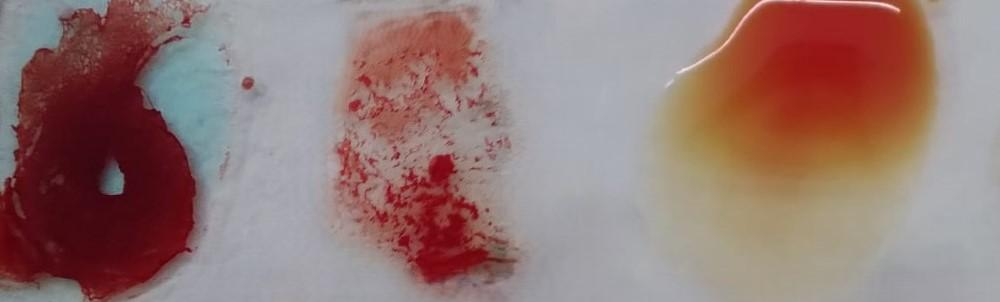A: (0, 6, 230, 300)
D: (334, 10, 526, 300)
